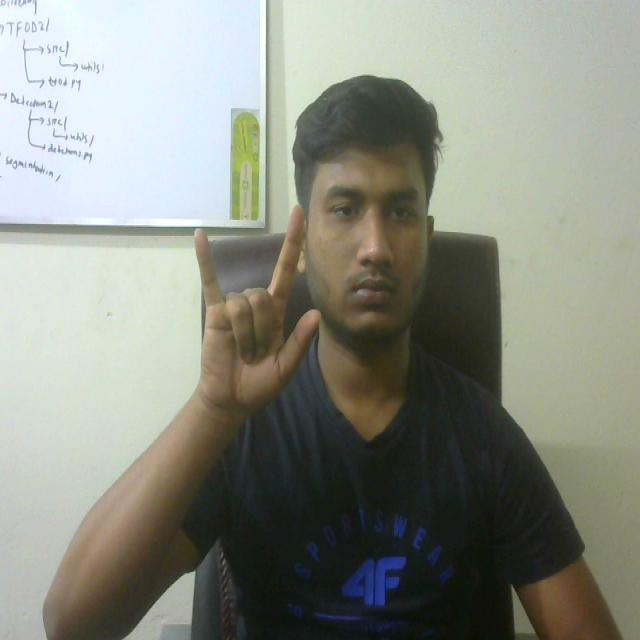I Love You: (159, 194, 327, 434)
